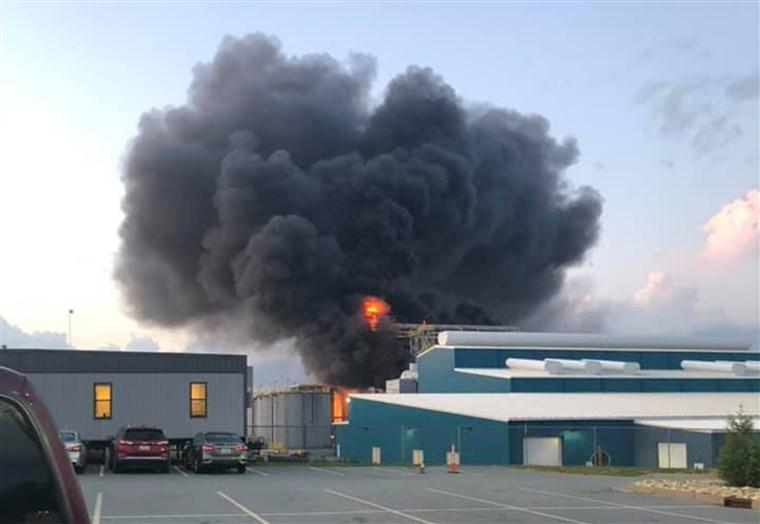Fire: (357, 290, 387, 324)
